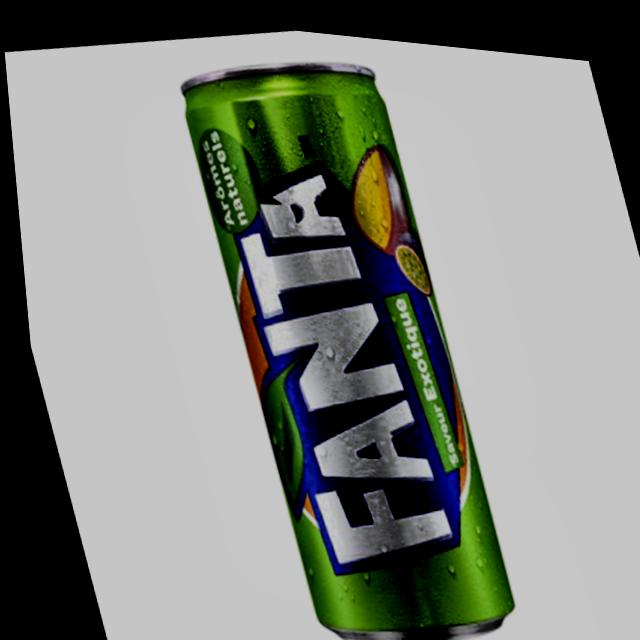Cans: (143, 12, 549, 640)
